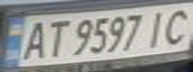5: (90, 13, 112, 55)
7: (121, 11, 148, 52)
9: (66, 16, 93, 56), (106, 12, 130, 54)
A: (18, 18, 51, 61)
C: (157, 4, 193, 46)
I: (142, 7, 172, 48)
T: (39, 17, 69, 59)
